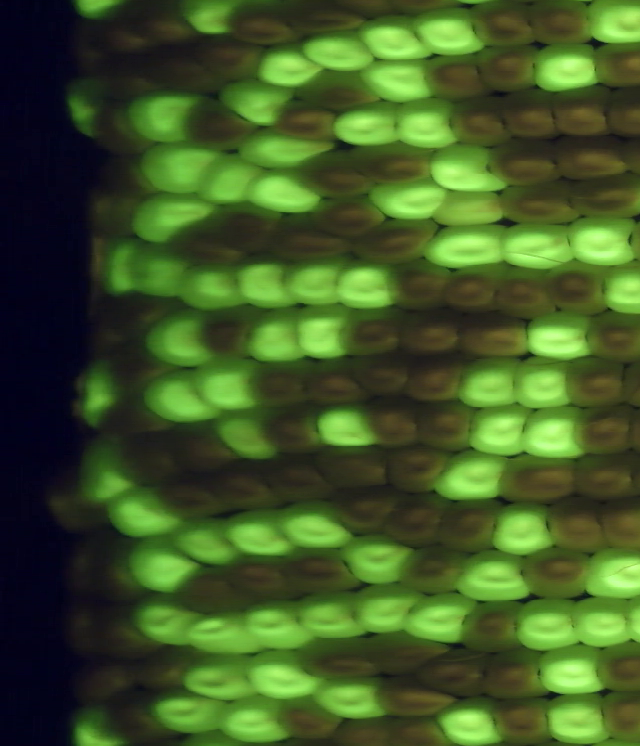fluorescent: (122, 81, 213, 149), (240, 642, 334, 707), (137, 301, 217, 376), (125, 188, 220, 251), (100, 481, 189, 548), (123, 589, 212, 655), (135, 366, 228, 429), (415, 218, 521, 273), (423, 139, 517, 200), (234, 594, 326, 656), (395, 585, 484, 649), (289, 580, 374, 646), (233, 123, 340, 175), (455, 544, 538, 610), (134, 139, 225, 199), (145, 681, 239, 739), (181, 606, 272, 665), (305, 669, 394, 729), (496, 215, 582, 277), (67, 432, 136, 509), (271, 494, 359, 554), (428, 445, 516, 505), (514, 403, 595, 468), (511, 590, 587, 658), (170, 256, 252, 319), (125, 532, 202, 599), (335, 530, 420, 590), (449, 349, 526, 415), (214, 75, 304, 131), (238, 164, 328, 220), (278, 249, 359, 311), (190, 352, 265, 418), (565, 589, 640, 655), (351, 9, 436, 67), (563, 210, 640, 274), (227, 250, 299, 318), (237, 304, 311, 370), (208, 403, 284, 467), (191, 149, 272, 209), (534, 639, 615, 699), (388, 91, 460, 157), (123, 238, 195, 304), (347, 578, 426, 638), (362, 173, 451, 226), (406, 3, 490, 59), (176, 652, 263, 706), (169, 510, 247, 570), (329, 98, 411, 155), (330, 254, 405, 316), (506, 349, 575, 416), (222, 502, 299, 562), (428, 689, 509, 746), (211, 689, 292, 746), (467, 400, 539, 464), (55, 71, 115, 147), (294, 25, 379, 78), (521, 305, 595, 365), (293, 297, 358, 364), (68, 355, 123, 434), (355, 56, 438, 108), (528, 38, 605, 94), (310, 399, 385, 456), (542, 689, 615, 746), (492, 497, 559, 559), (252, 39, 327, 94), (575, 543, 640, 604), (427, 184, 509, 232), (95, 232, 145, 299), (66, 697, 128, 746), (581, 1, 640, 48), (598, 257, 640, 320), (179, 1, 246, 39)
nonfluorescent: (98, 683, 195, 746), (284, 149, 389, 204), (106, 284, 191, 349), (179, 95, 264, 159), (359, 626, 457, 681), (492, 451, 584, 509), (345, 213, 442, 268), (381, 255, 464, 319), (84, 532, 152, 610), (543, 255, 617, 325), (366, 670, 467, 721), (184, 29, 271, 88), (548, 130, 635, 189), (455, 305, 542, 364), (265, 210, 355, 267), (61, 649, 146, 709), (171, 560, 257, 619), (483, 136, 573, 192), (258, 447, 339, 509), (156, 222, 252, 274), (91, 596, 164, 664), (380, 488, 456, 553), (260, 400, 339, 462), (282, 540, 365, 599), (195, 299, 268, 366), (492, 83, 568, 147), (162, 415, 243, 475), (200, 202, 288, 257), (123, 636, 205, 695), (33, 479, 111, 541), (53, 13, 125, 80), (409, 394, 482, 460), (437, 256, 511, 321), (456, 594, 530, 659), (495, 177, 587, 229), (433, 493, 510, 555), (558, 351, 633, 414), (205, 455, 285, 514), (310, 439, 394, 495), (348, 139, 442, 189), (307, 189, 394, 243), (102, 341, 183, 399), (335, 299, 412, 360), (543, 492, 615, 557), (476, 643, 552, 704), (244, 355, 321, 415), (151, 470, 235, 525), (227, 550, 308, 607), (295, 633, 382, 686), (140, 45, 225, 99), (111, 428, 188, 487), (413, 645, 494, 701), (386, 437, 459, 499), (51, 528, 109, 606), (518, 545, 596, 603), (75, 187, 154, 244), (299, 354, 374, 414), (445, 92, 516, 155), (333, 481, 410, 539), (396, 349, 470, 409), (419, 49, 498, 105), (395, 537, 466, 599), (548, 81, 620, 142), (350, 395, 427, 452), (294, 67, 385, 115), (91, 393, 177, 443), (340, 346, 415, 403), (472, 39, 543, 99), (485, 692, 563, 746), (395, 303, 466, 362), (569, 447, 640, 506), (564, 170, 640, 225), (124, 1, 205, 52), (570, 400, 639, 459), (223, 1, 306, 50), (494, 265, 564, 323), (85, 103, 155, 160), (85, 150, 161, 202), (464, 1, 543, 51), (274, 692, 345, 746), (270, 96, 345, 147), (520, 1, 598, 49), (89, 7, 156, 62), (60, 600, 113, 669), (277, 1, 370, 40), (79, 301, 137, 363), (581, 309, 640, 369), (594, 490, 640, 561), (586, 38, 640, 94), (320, 711, 406, 746), (374, 712, 460, 746), (591, 637, 640, 696), (595, 82, 640, 142), (595, 686, 640, 745)
